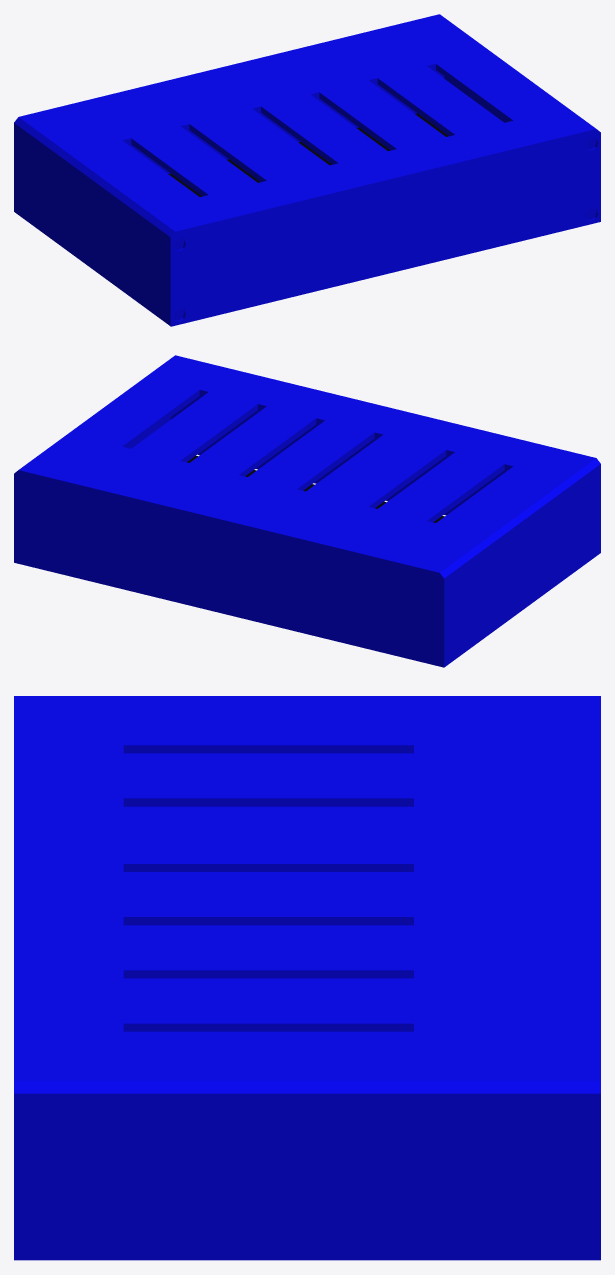
3 renders of one model, top to bottom at view 1: azimuth 30°, elevation 25°; view 2: azimuth 150°, elevation 25°; view 3: azimuth 270°, elevation 25°, orthographic. The views are drawn at different scales.
Visible parts, largest first — view 1: DaftBoxBase; view 2: DaftBoxBase; view 3: DaftBoxBase.
Boxes of the visible parts, x1=… form: DaftBoxBase: x1=14, y1=14, x2=600, y2=326; DaftBoxBase: x1=14, y1=355, x2=600, y2=667; DaftBoxBase: x1=14, y1=696, x2=600, y2=1260.
Bounding box in the file's own units: 0.1355 × 0.0283 × 0.0855.
